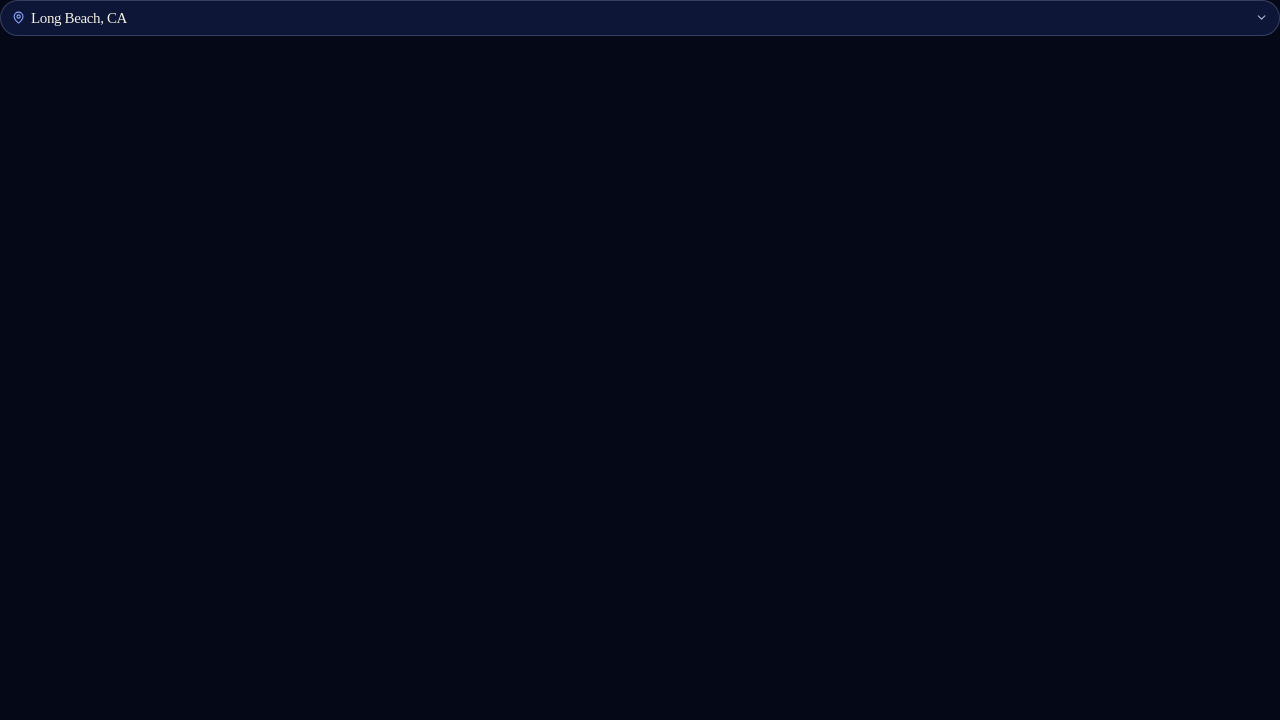
Test case: PlaceCombobox › starts at the top option again when the picker reopens
Later steps or results of the test are not shown.
Step 1. Click the button with aria-label "Place preset: Long Beach, CA" → (79, 18), box [0, 0, 1279, 36]
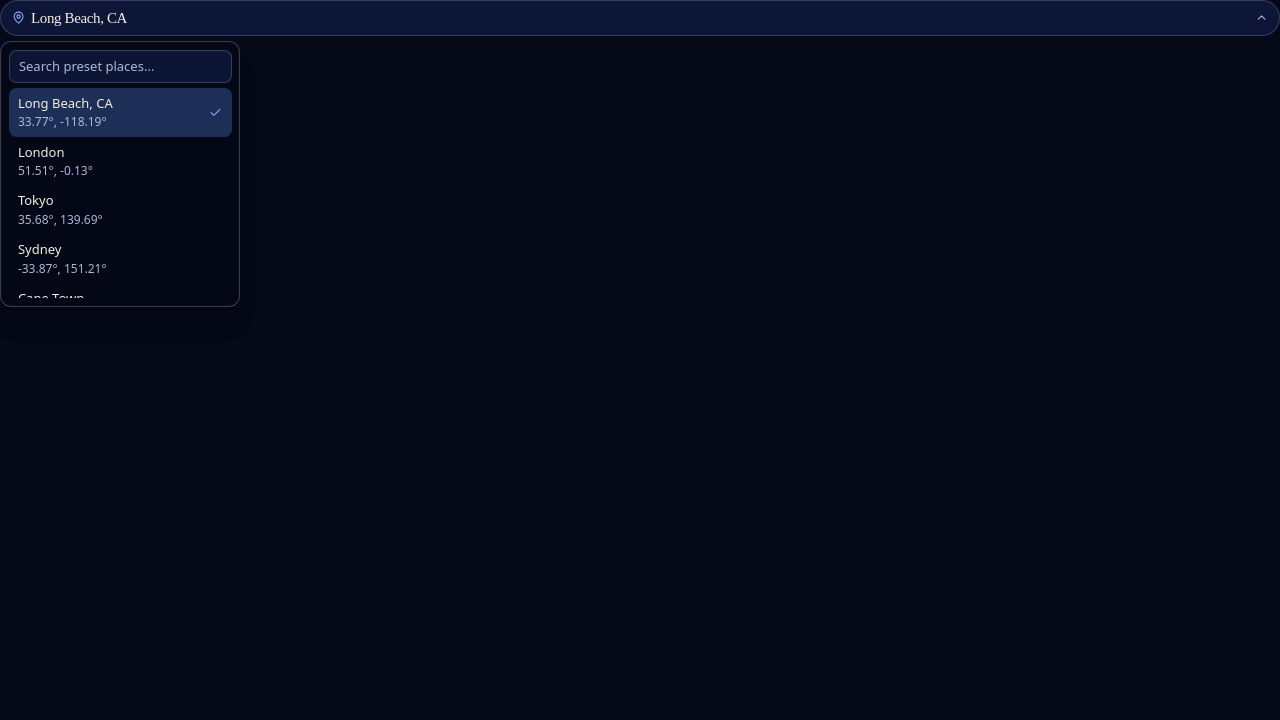
Step 2. Press ArrowUp in the dropdown, box [8, 50, 232, 83]
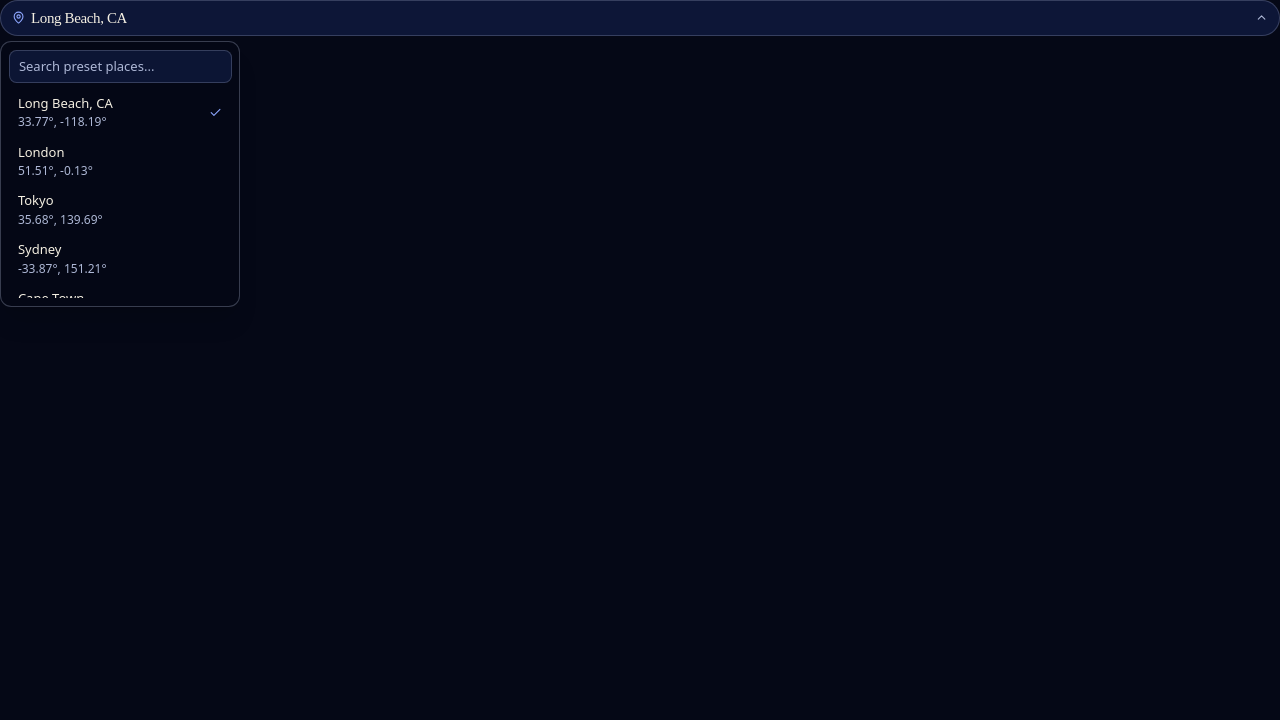
Step 3. Press Escape in the dropdown, box [8, 50, 232, 83]
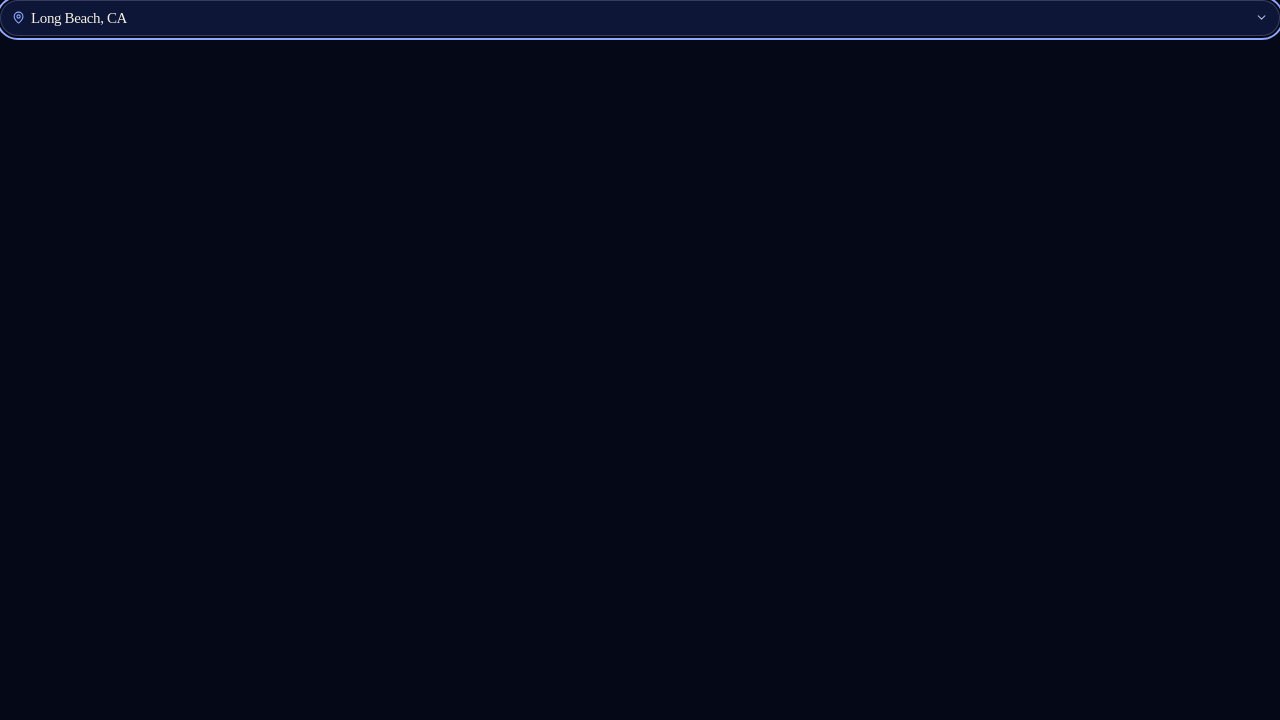
Expected: the dialog is gone
